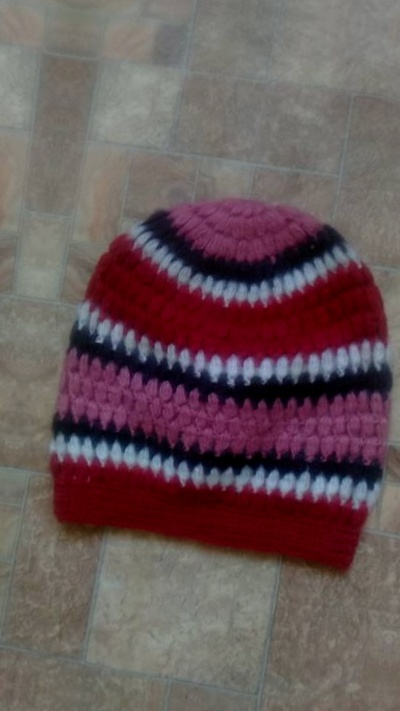Hat: (8, 151, 400, 582), (0, 93, 50, 525)
